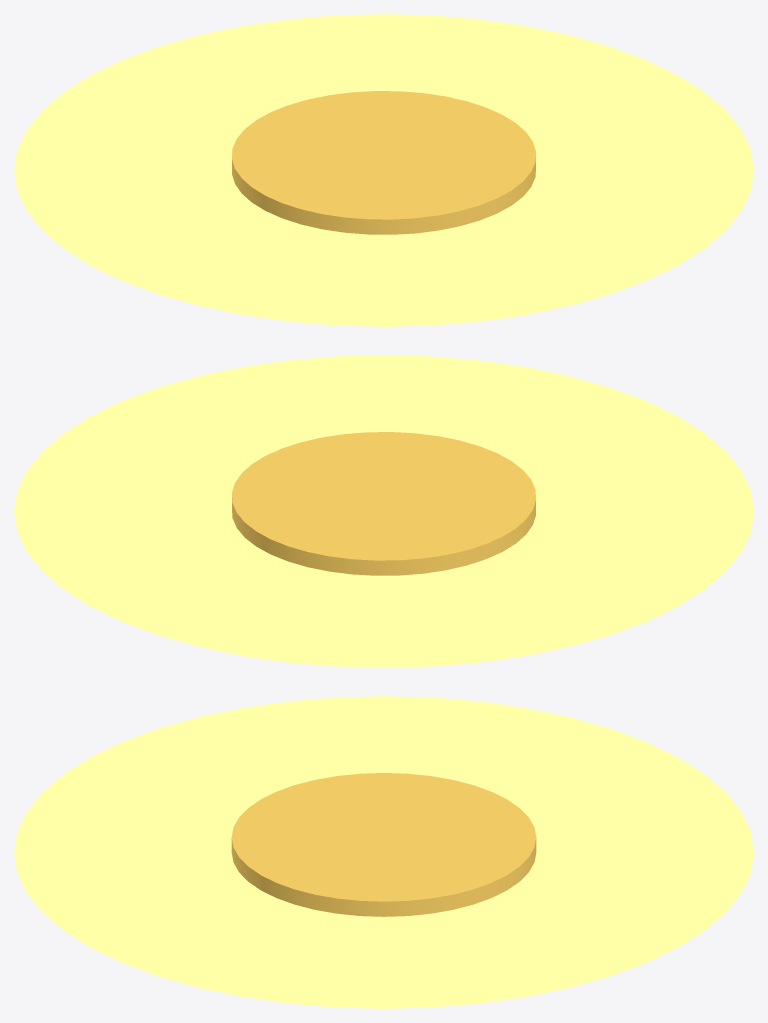
Rendered from pad-f5a524.glb.
3 views of the same model, one above another, from view 1: azimuth 30°, elevation 25°; view 2: azimuth 150°, elevation 25°; view 3: azimuth 270°, elevation 25° (orthographic).
Parts seen in each view (by area): view 1: plat; view 2: plat; view 3: plat.
Part boxes in pixels (box(x1,y1,x2,y2)): plat: box(14, 14, 753, 326); plat: box(14, 355, 753, 667); plat: box(14, 696, 753, 1008).
Bounding box in the file's own units: 3.4 × 0.08 × 3.4.
Materials: 2 (2 with a texture image).
